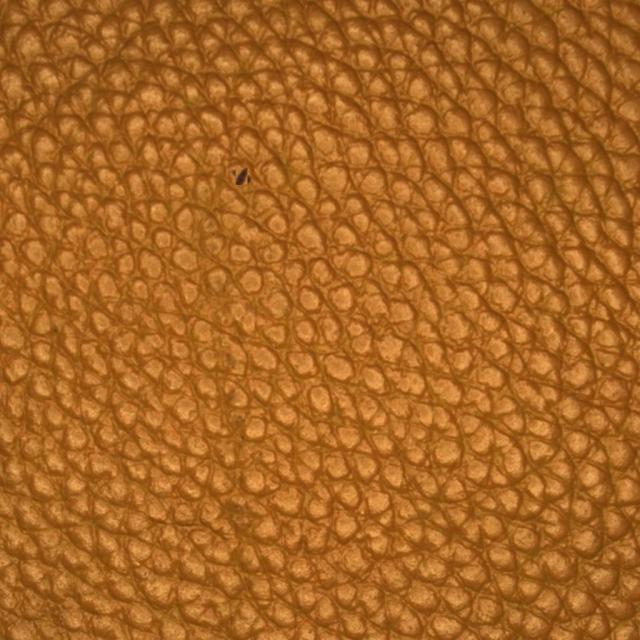pinhole: (185, 90, 308, 270)
